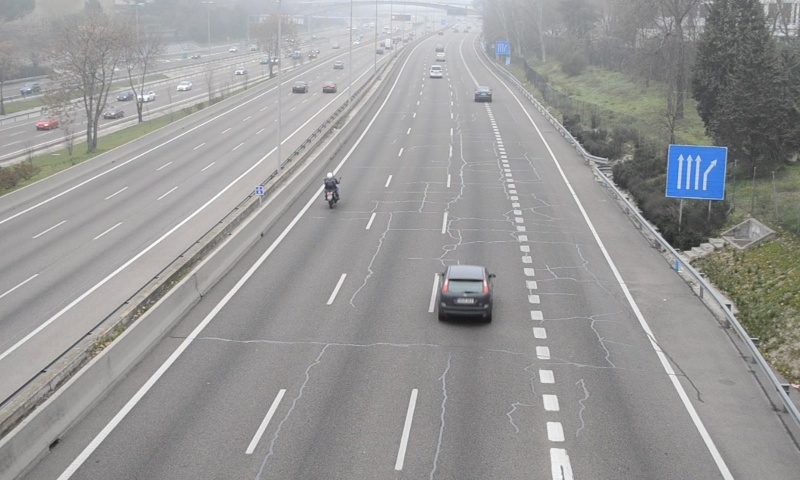car: (437, 264, 492, 322), (474, 86, 491, 102), (430, 65, 442, 78)
motorcycle: (322, 173, 340, 210)
